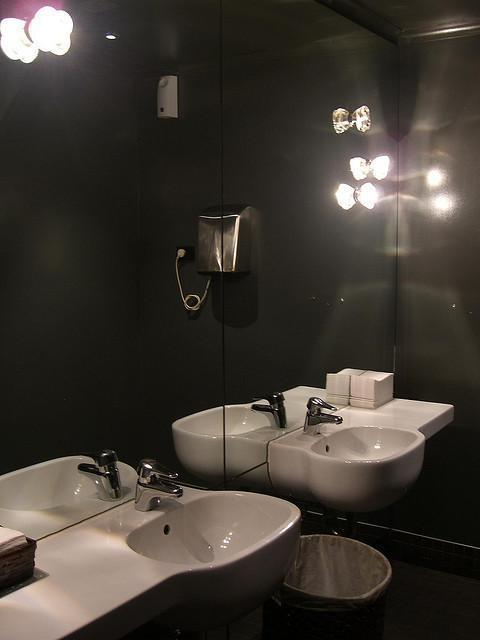Bote de Basura: (269, 530, 394, 639)
Lavamanos: (113, 452, 294, 635), (269, 395, 455, 513)
